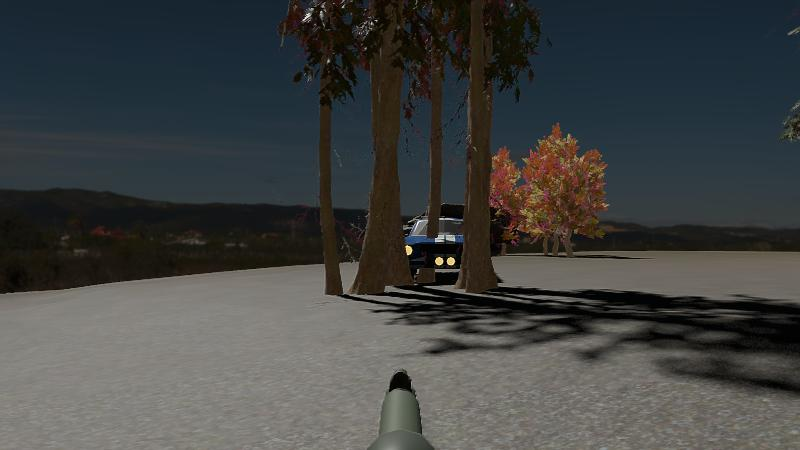car: (399, 215, 471, 283)
